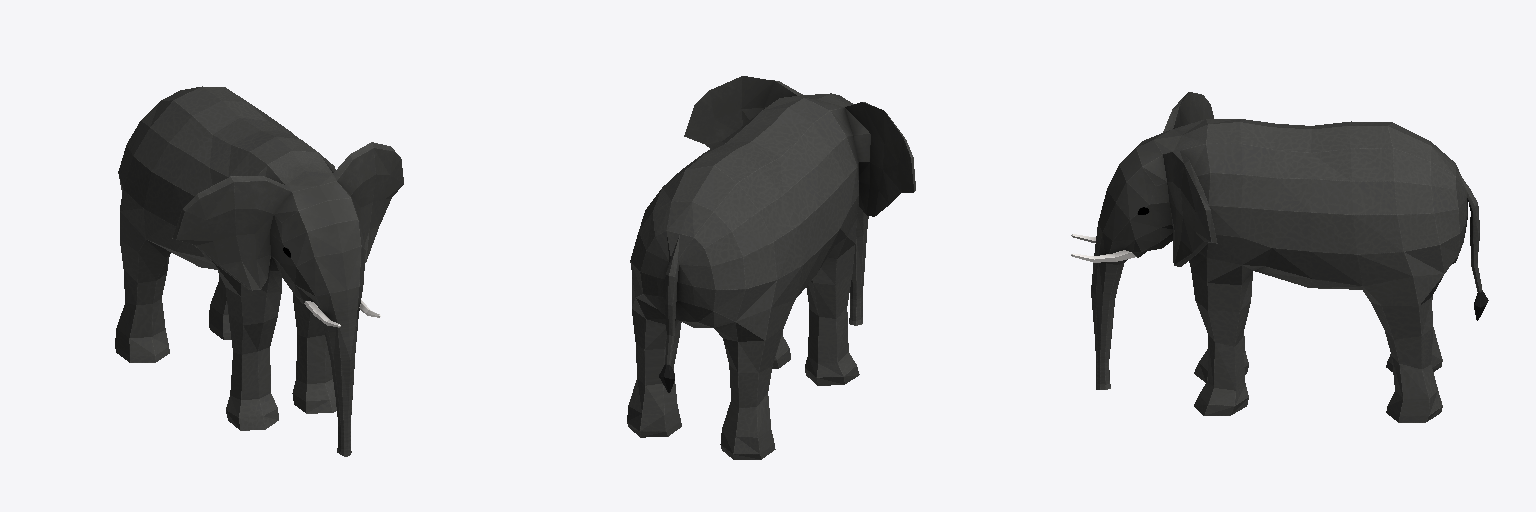
The picture shows the model from 3 angles: view 1: azimuth 30°, elevation 25°; view 2: azimuth 150°, elevation 25°; view 3: azimuth 270°, elevation 25°; orthographic projection.
Visible parts, largest first — view 1: Elephant_Mesh; view 2: Elephant_Mesh; view 3: Elephant_Mesh.
Part boxes in pixels (left/top/right/bottom): Elephant_Mesh: left=115, top=86, right=403, bottom=456; Elephant_Mesh: left=627, top=76, right=915, bottom=459; Elephant_Mesh: left=1071, top=92, right=1488, bottom=422.
Size of the model in its own units: 7.45 by 8.29 by 11.72.
Materials: 1 (1 with a texture image).